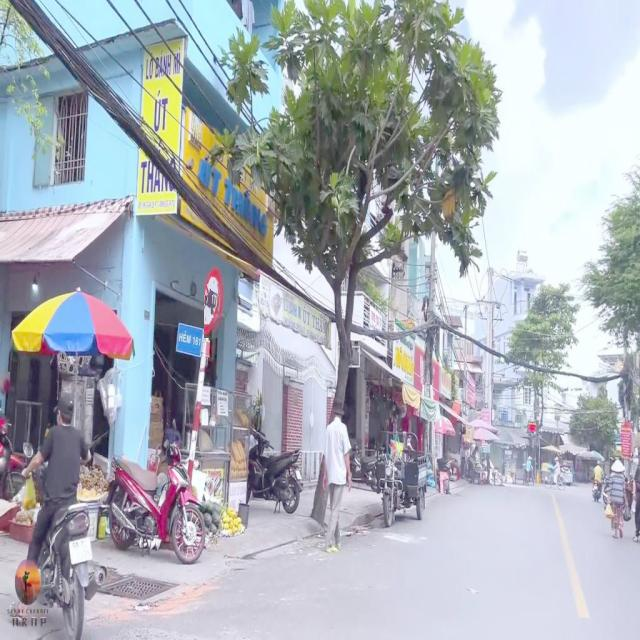cam_o_to_tai: (204, 266, 224, 338)
